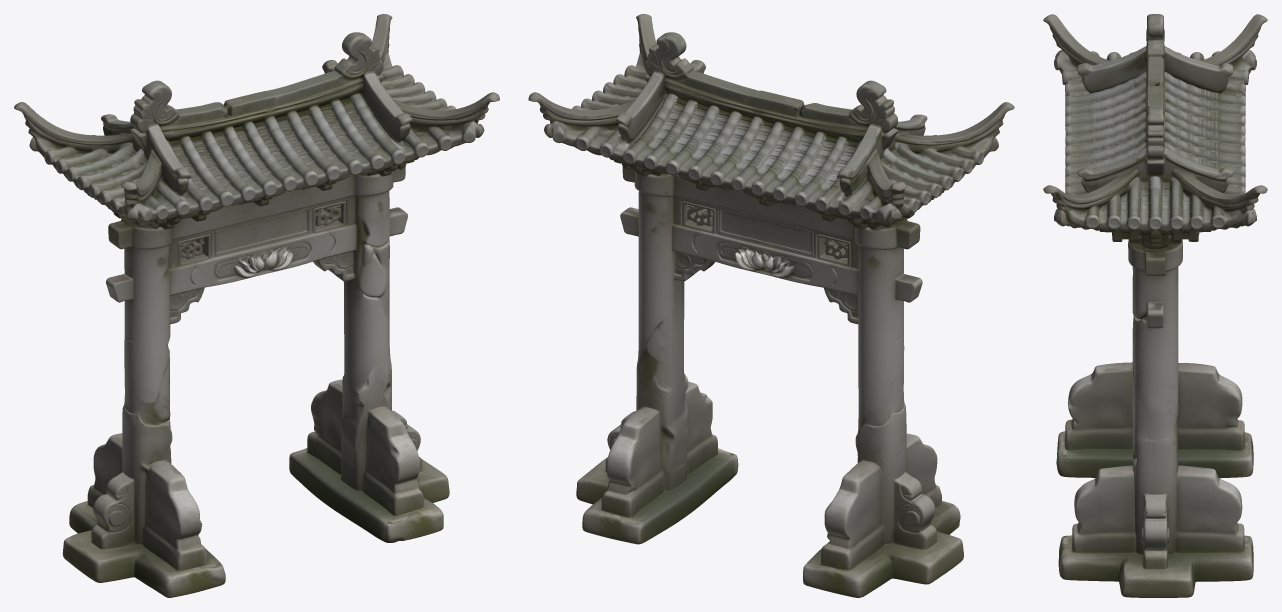
The model's file is gate.gltf.
3 renders of one model, left to right at view 1: azimuth 30°, elevation 25°; view 2: azimuth 150°, elevation 25°; view 3: azimuth 270°, elevation 25°, orthographic. The views are drawn at different scales.
Parts seen in each view (by area): view 1: Object_7, Object_5, Object_6, Object_8, Object_4; view 2: Object_7, Object_5, Object_4, Object_6, Object_8; view 3: Object_7, Object_4, Object_5, Object_8, Object_6.
Part boxes in pixels (<box>): Object_7: <box>55,153,449,597</box>; Object_5: <box>79,63,400,439</box>; Object_6: <box>87,14,499,507</box>; Object_8: <box>14,32,451,587</box>; Object_4: <box>191,16,455,284</box>; Object_7: <box>576,107,1009,597</box>; Object_5: <box>635,66,979,446</box>; Object_4: <box>538,39,869,307</box>; Object_6: <box>528,14,1014,583</box>; Object_8: <box>562,32,935,575</box>; Object_7: <box>1056,18,1253,597</box>; Object_4: <box>1073,50,1257,265</box>; Object_5: <box>1065,14,1233,470</box>; Object_8: <box>1065,14,1267,459</box>; Object_6: <box>1043,14,1267,431</box>.
Bounding box in the file's own units: 0.7896 × 0.9415 × 0.4227.
1 material, 1 textured.
